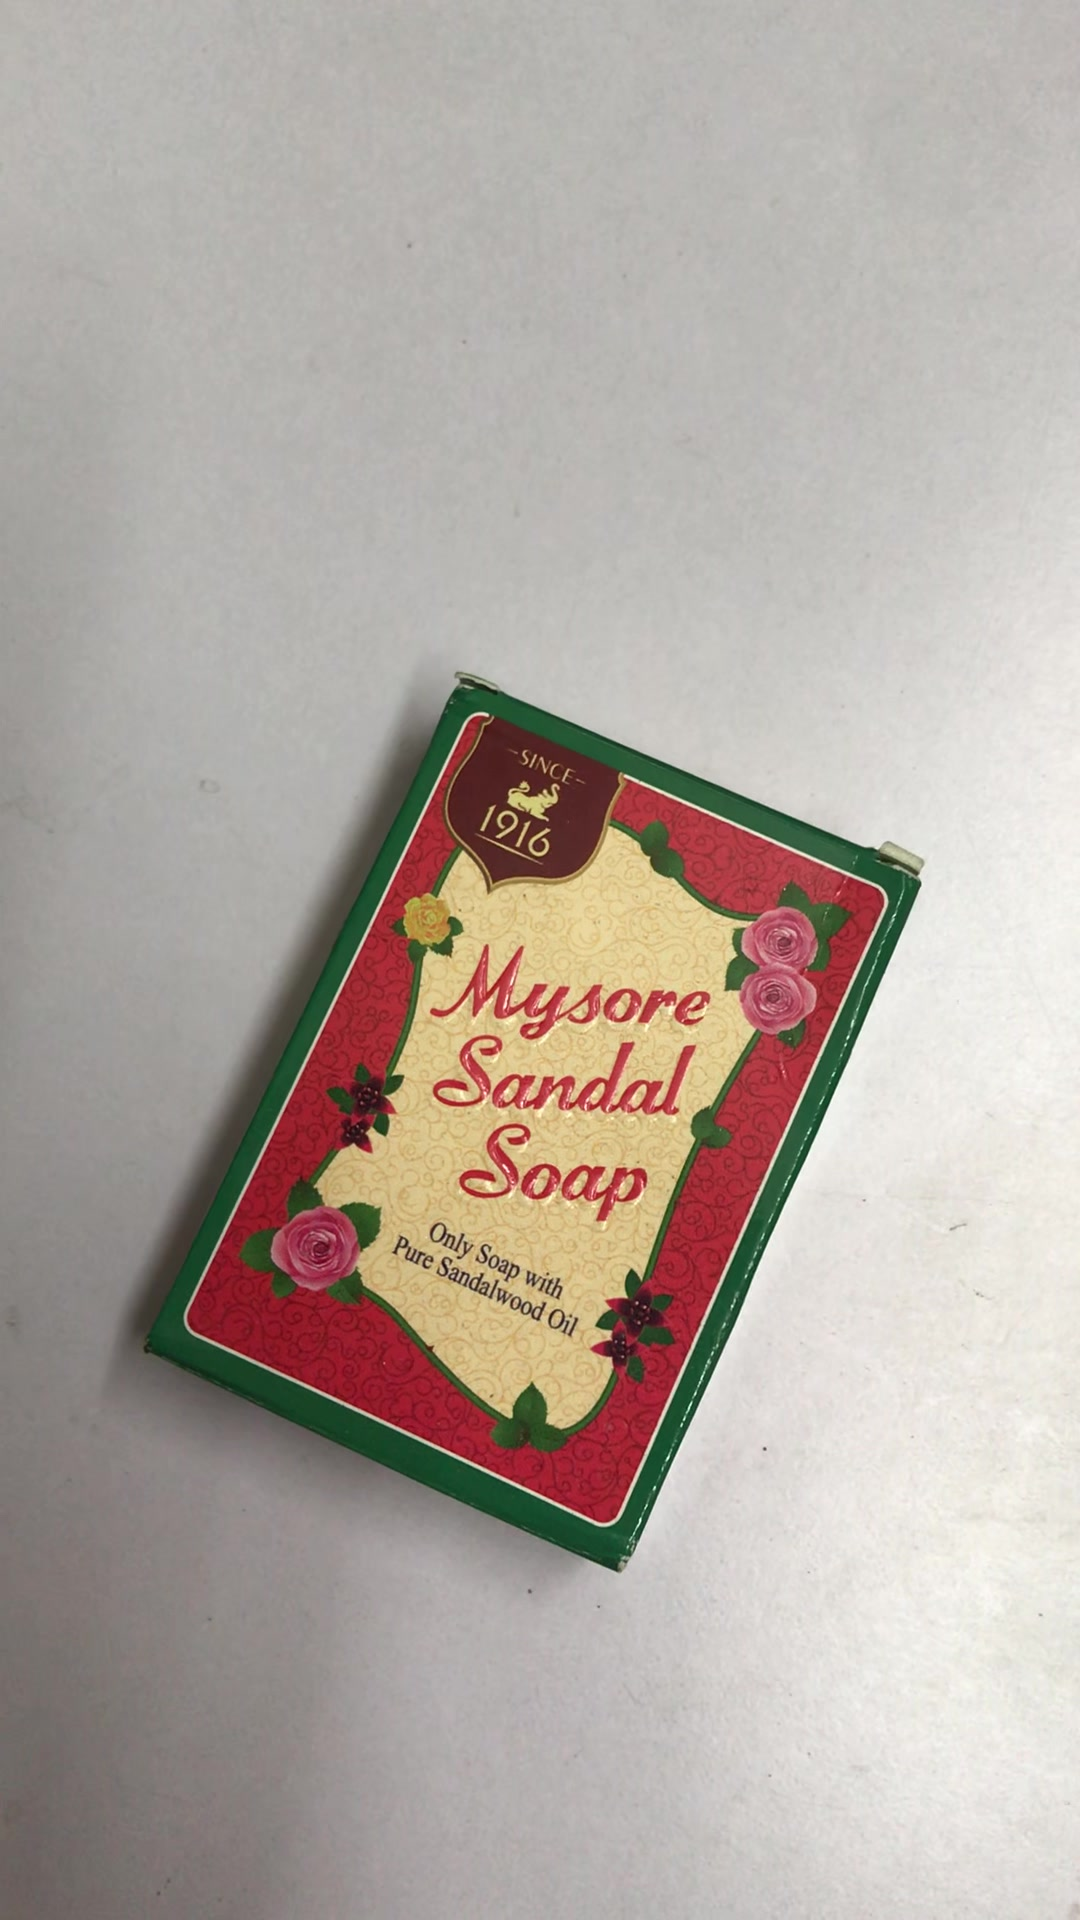mysore sandal soap: (138, 671, 940, 1575)
